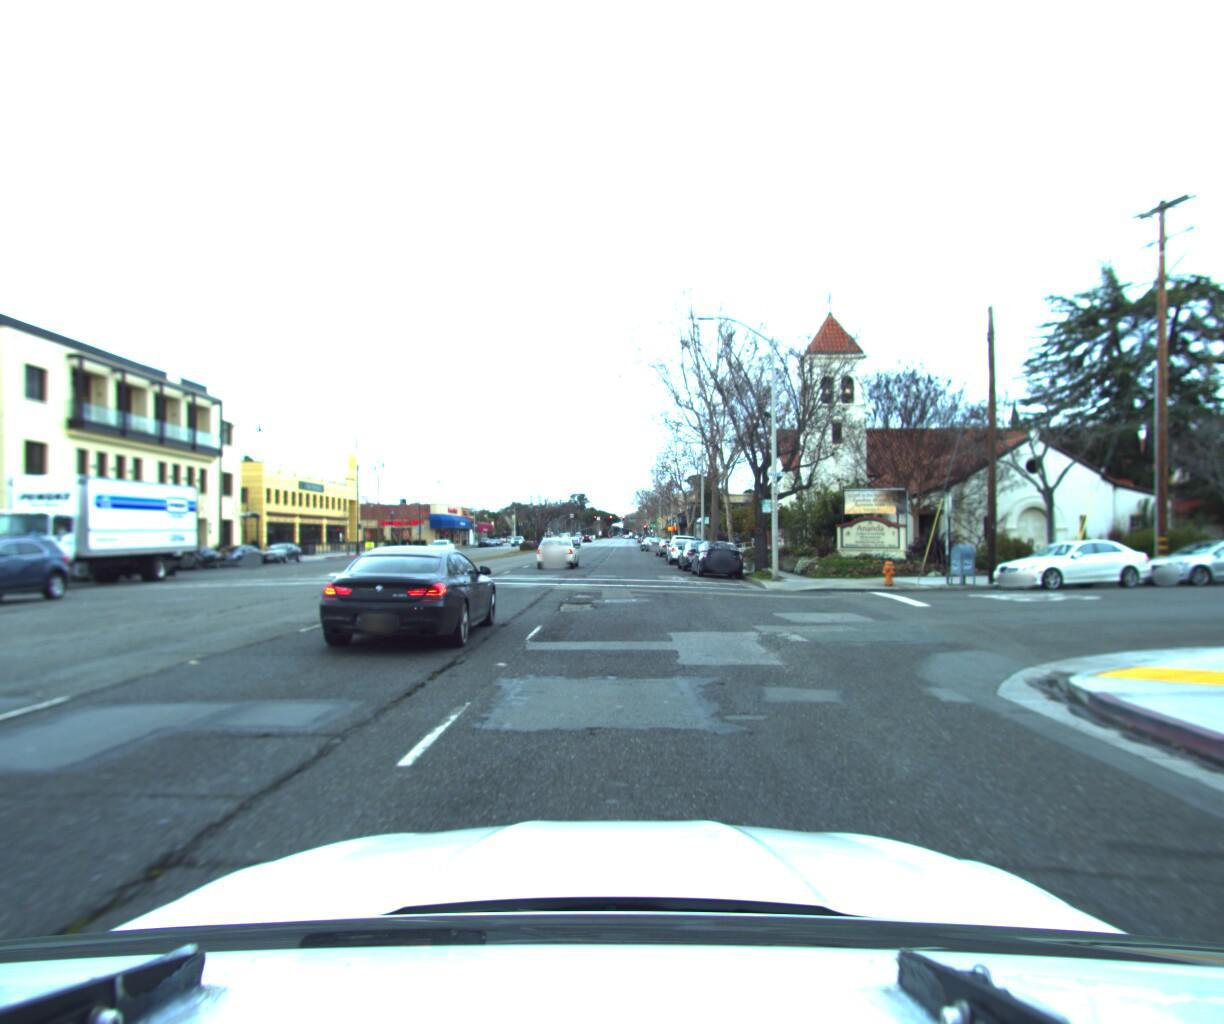car: (296, 535, 505, 658), (976, 529, 1155, 585), (1120, 527, 1224, 582), (689, 535, 745, 575), (159, 543, 230, 571), (529, 530, 582, 567), (675, 534, 725, 569), (205, 541, 271, 566), (257, 540, 308, 562), (666, 534, 702, 561), (422, 537, 456, 555), (637, 532, 661, 548)
